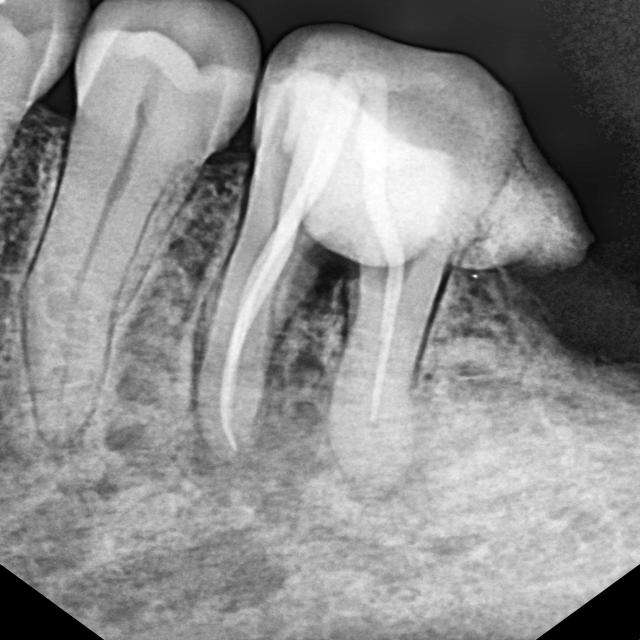Normal: (13, 6, 267, 500)
RCT: (137, 8, 552, 532)
